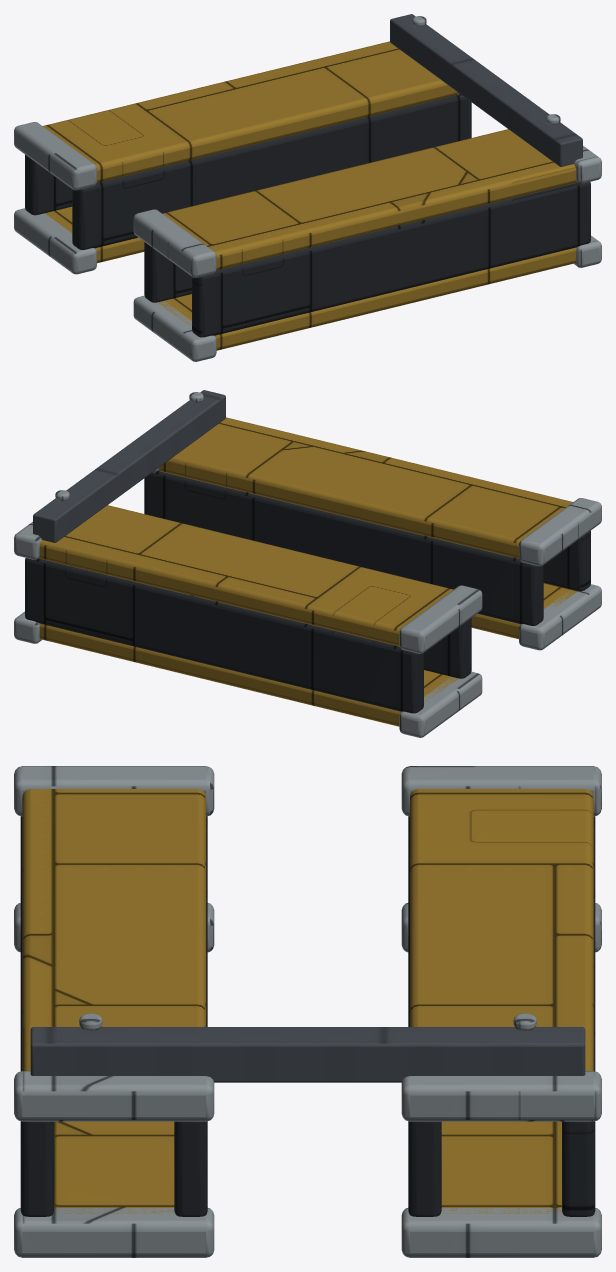
File: cargo-fork-receiver_lod0.glb
The picture shows the model from 3 angles, top to bottom: view 1: azimuth 30°, elevation 25°; view 2: azimuth 150°, elevation 25°; view 3: azimuth 270°, elevation 25°; orthographic projection. The views are drawn at different scales.
Parts seen in each view (by area): view 1: LOD0_Livery, LOD0_Armor, LOD0_BrushedMetal, LOD0_Mechanical; view 2: LOD0_Livery, LOD0_Armor, LOD0_BrushedMetal, LOD0_Mechanical; view 3: LOD0_Livery, LOD0_BrushedMetal, LOD0_Mechanical, LOD0_Armor.
Part boxes in pixels (x1,y1,x2,y2): LOD0_Livery: (43,41,576,350); LOD0_Armor: (25,95,590,337); LOD0_BrushedMetal: (14,16,601,361); LOD0_Mechanical: (390,14,582,166); LOD0_Livery: (39,417,577,726); LOD0_Armor: (25,471,590,713); LOD0_BrushedMetal: (14,392,601,737); LOD0_Mechanical: (33,390,225,542); LOD0_Livery: (22,789,593,1213); LOD0_BrushedMetal: (14,766,601,1257); LOD0_Mechanical: (30,1027,585,1082); LOD0_Armor: (20,816,595,1216).
Bounding box in the file's own units: 2.3 × 0.735 × 1.76.
4 materials, 4 textured.
